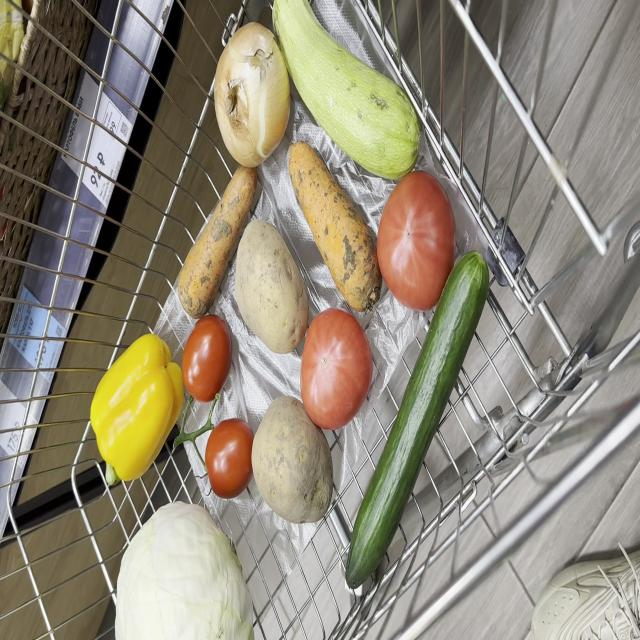carrot: (289, 141, 382, 311), (179, 165, 258, 318)
potato: (251, 397, 332, 523), (235, 221, 309, 353)
tomato: (378, 170, 456, 311), (300, 309, 372, 430), (182, 315, 231, 401), (205, 419, 254, 499)
